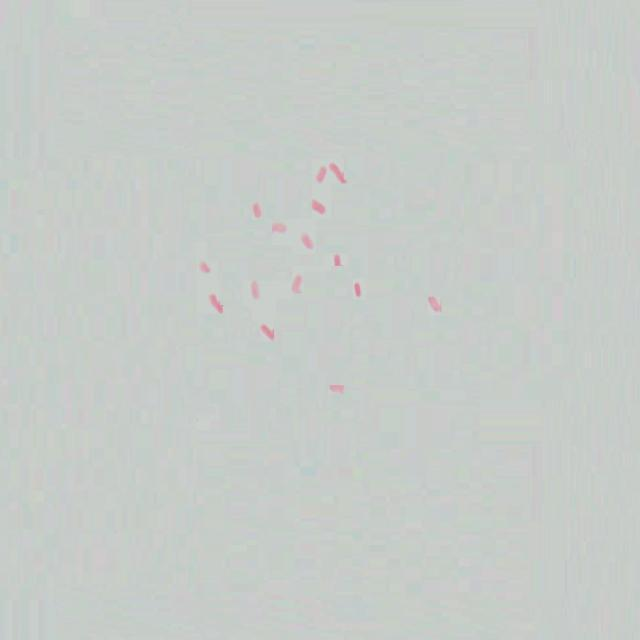E-coli: (312, 158, 329, 193), (332, 155, 348, 185), (208, 291, 224, 320), (259, 320, 277, 344), (247, 197, 262, 224), (291, 273, 307, 297), (248, 278, 261, 305), (307, 197, 326, 215), (326, 382, 347, 397), (350, 281, 365, 301), (198, 257, 211, 275), (271, 218, 285, 234), (302, 231, 313, 250), (427, 296, 440, 312), (331, 252, 342, 270)
